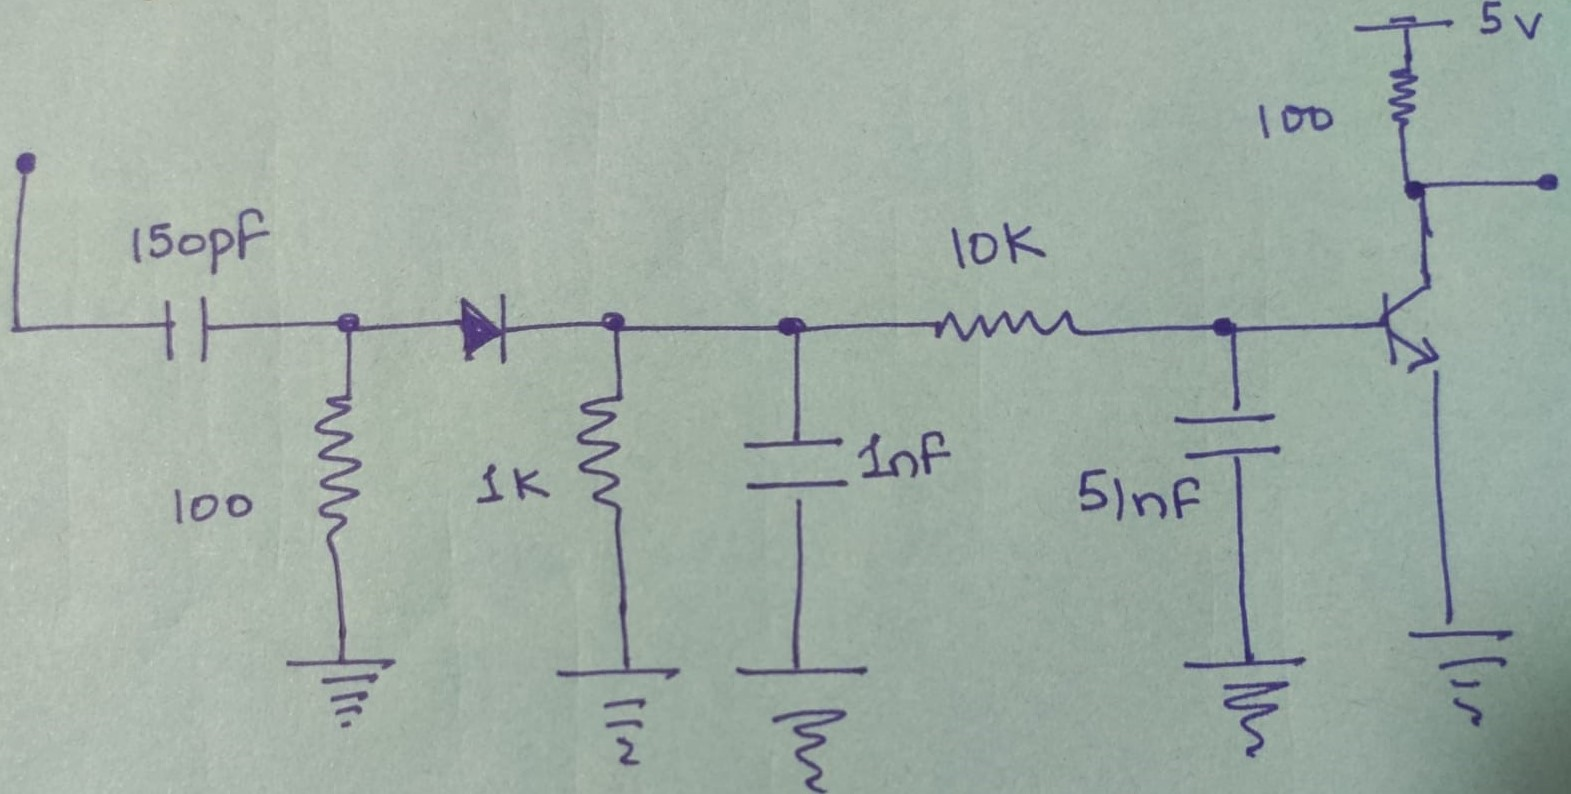capacitor.unpolarized: (740, 434, 848, 492), (1171, 413, 1283, 461), (154, 300, 217, 358)
diode: (454, 293, 512, 366)
gnd: (740, 660, 857, 794), (568, 658, 671, 771), (1417, 615, 1512, 727), (1202, 652, 1298, 755), (296, 656, 392, 727)
junction: (1203, 312, 1246, 345), (592, 310, 635, 340), (769, 316, 817, 342), (330, 308, 371, 337), (1400, 173, 1432, 205), (4, 314, 36, 343)
resistor: (313, 395, 364, 528), (571, 392, 628, 512), (926, 304, 1081, 341), (1389, 63, 1421, 127)
terminal: (15, 150, 44, 189), (1529, 167, 1564, 197)
text: (131, 202, 262, 266), (1076, 463, 1202, 523), (857, 429, 950, 483), (950, 219, 1047, 270), (1256, 95, 1331, 141), (169, 488, 256, 527), (478, 464, 548, 502), (1480, 2, 1544, 39)
transistor: (1381, 280, 1441, 371)
voltage.dc: (1363, 8, 1453, 33)
